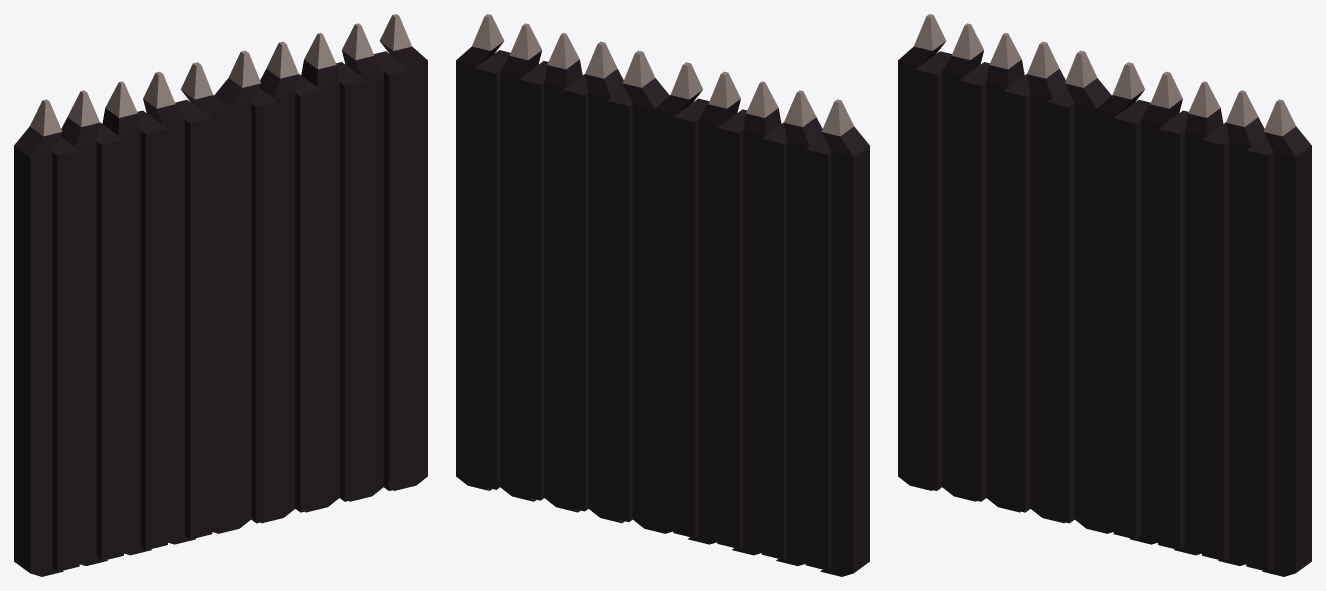
The model's file is gate.fbx.
3 views of the same model, side by side, from view 1: azimuth 30°, elevation 25°; view 2: azimuth 150°, elevation 25°; view 3: azimuth 330°, elevation 25° (orthographic).
Parts seen in each view (by area): view 1: Cube; view 2: Cube; view 3: Cube.
Part boxes in pixels (x1,y1,x2,y2): Cube: (14,14,427,576); Cube: (456,14,869,576); Cube: (898,14,1311,576).
Bounding box in the file's own units: 200 × 225 × 21.95.
